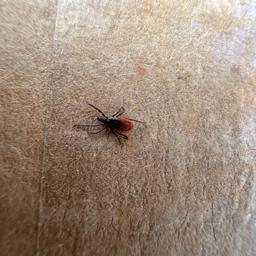Ixodes scapularis: (75, 102, 145, 145)
